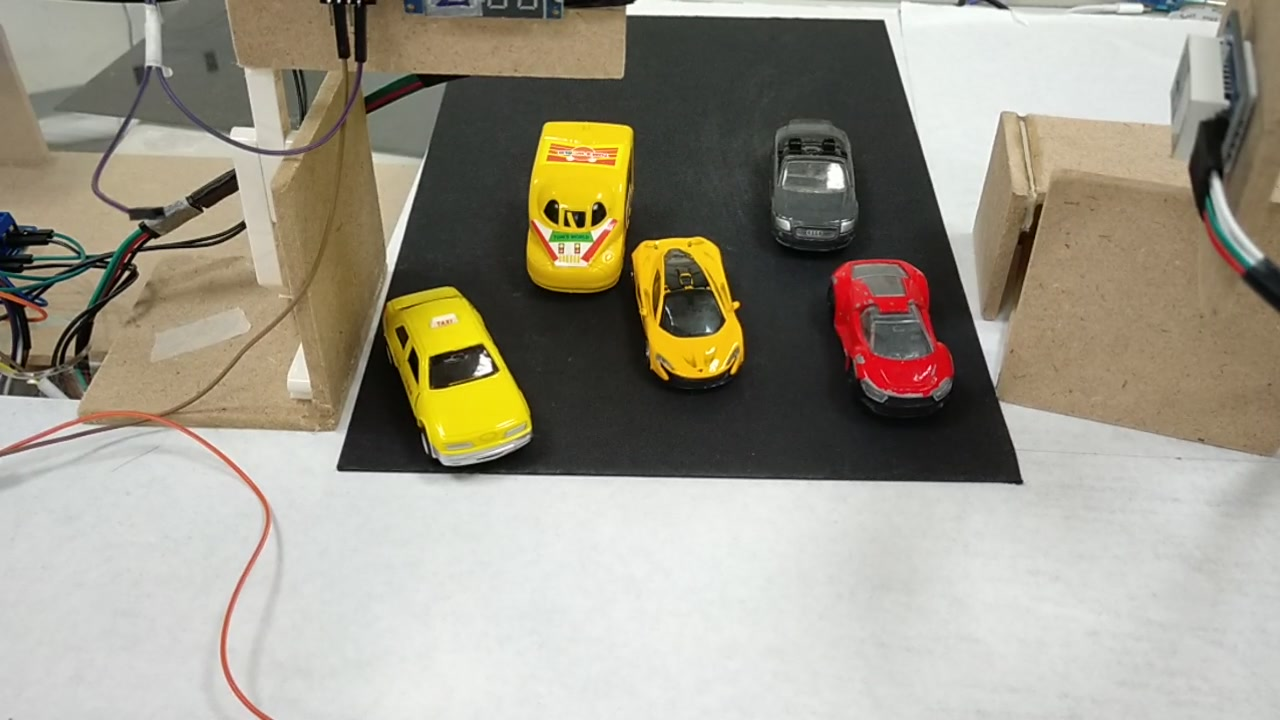car: (373, 291, 534, 466), (831, 259, 955, 415), (631, 231, 745, 392), (767, 118, 862, 249)
